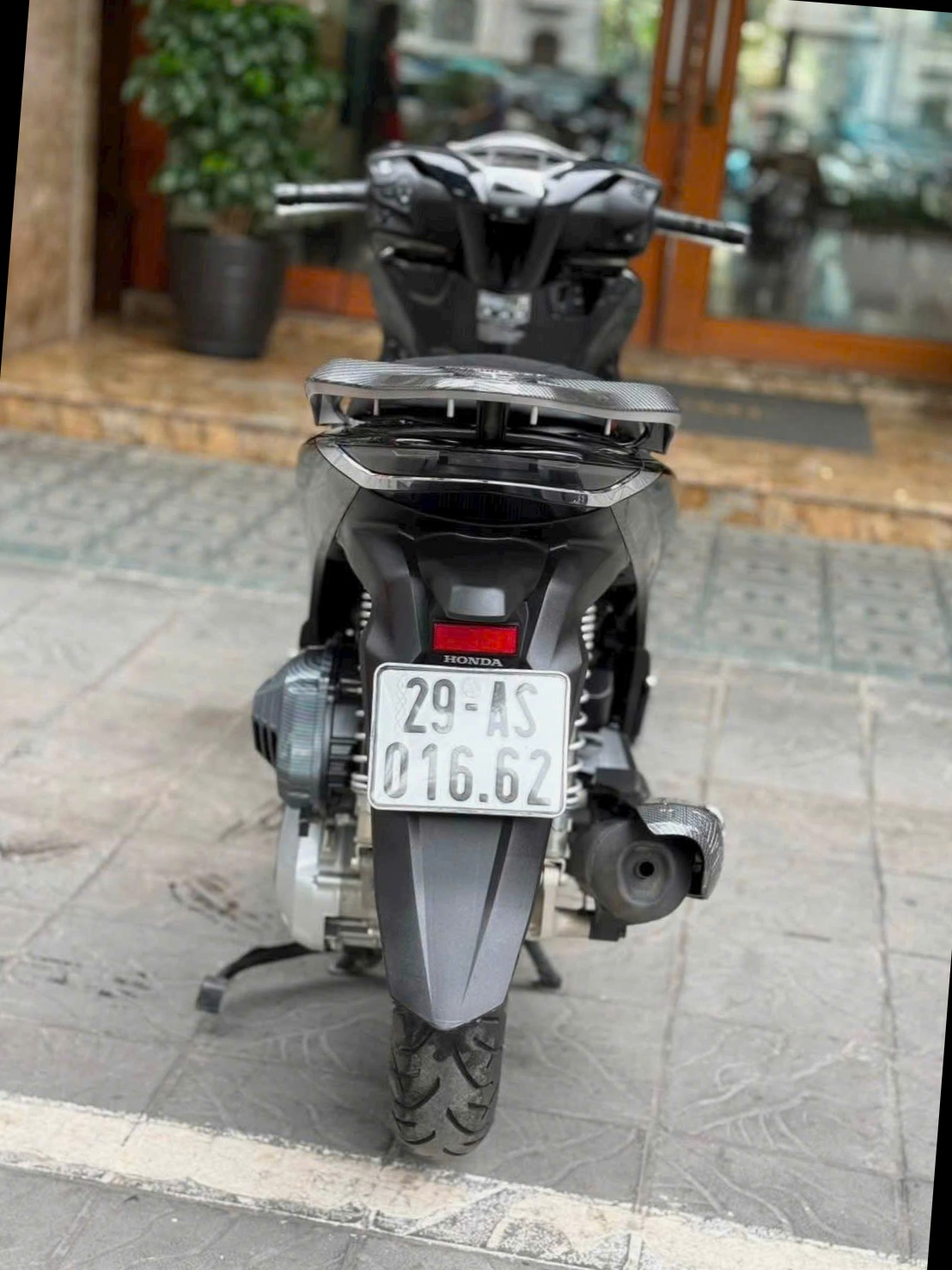Bien-so: (367, 650, 581, 840)
